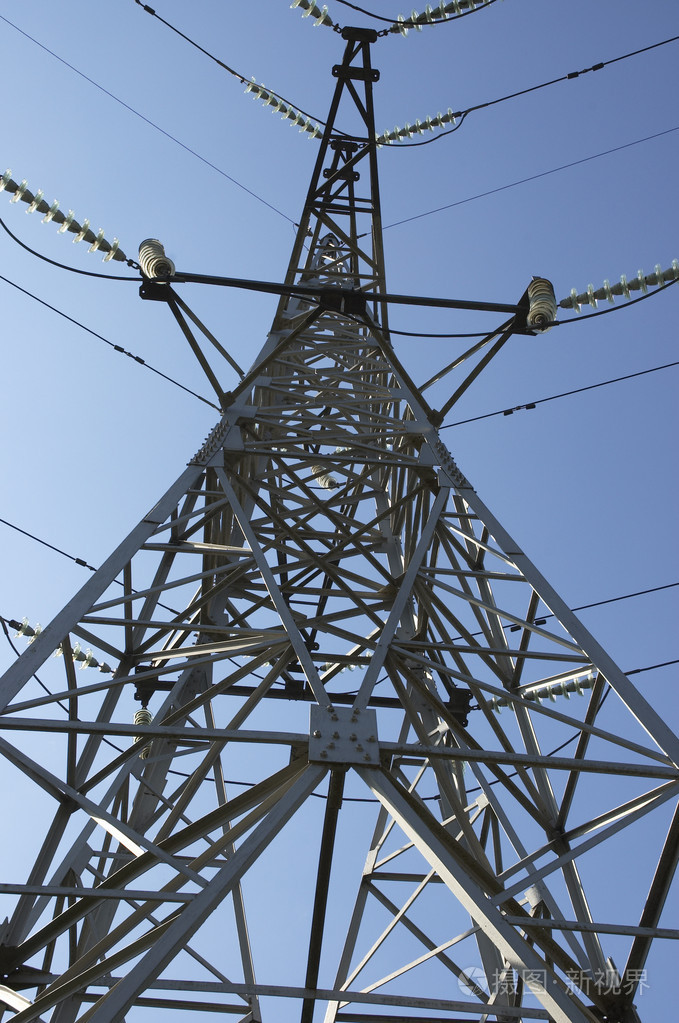insulator: (1, 166, 124, 260), (236, 71, 325, 142), (565, 263, 679, 316), (16, 618, 99, 671), (376, 105, 460, 148), (396, 1, 478, 36), (524, 272, 560, 335), (135, 233, 171, 283), (526, 679, 589, 704), (288, 1, 335, 32)
